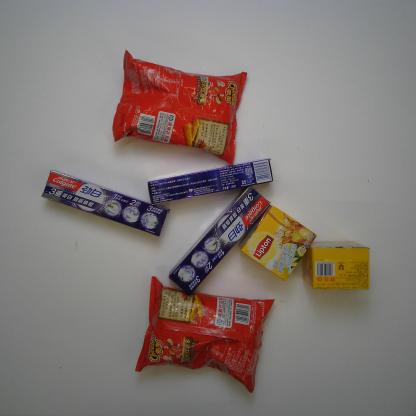Instant Drink: (240, 203, 320, 283), (303, 242, 373, 293)
Personal Hygiene: (167, 186, 272, 297), (39, 168, 171, 238), (146, 155, 274, 210)
Puffed Food: (134, 274, 277, 396), (110, 46, 248, 168)
